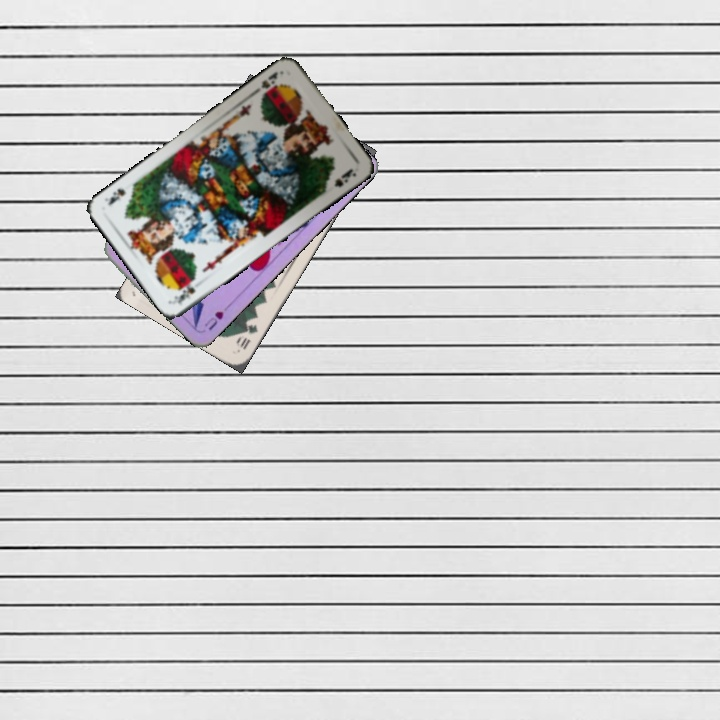G10: (232, 320, 260, 352)
HU: (200, 301, 232, 333)
SK: (170, 282, 198, 308), (257, 68, 281, 91)
